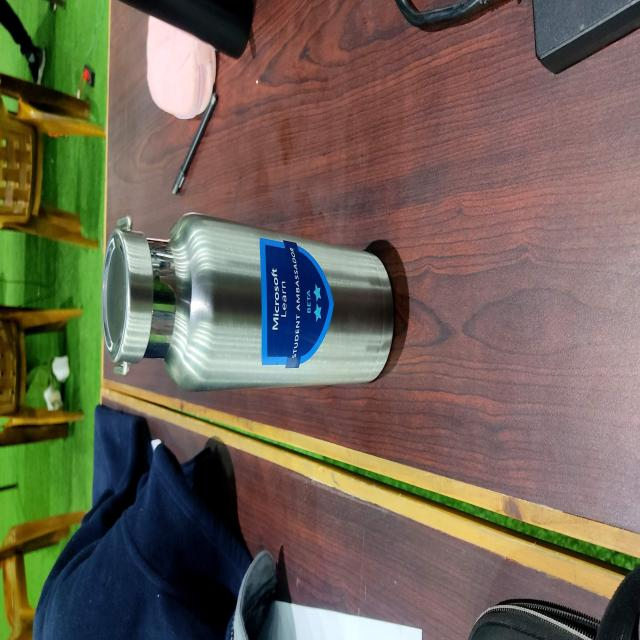Pringles: (102, 210, 396, 392)
